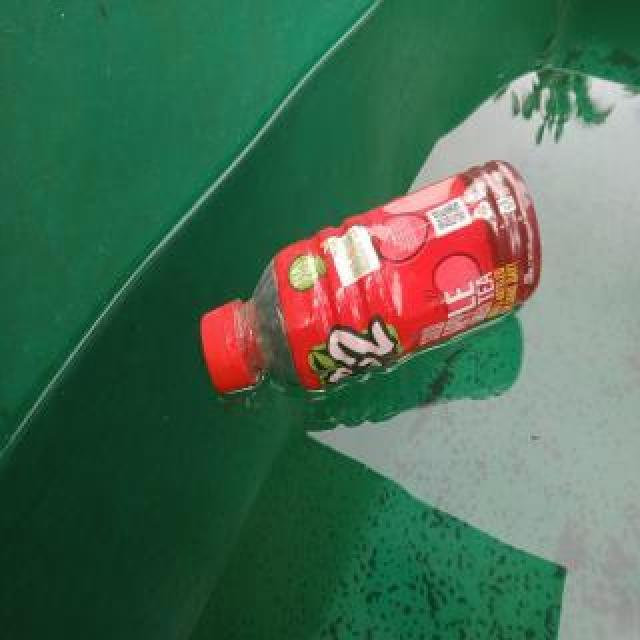bottle: (201, 152, 545, 402)
